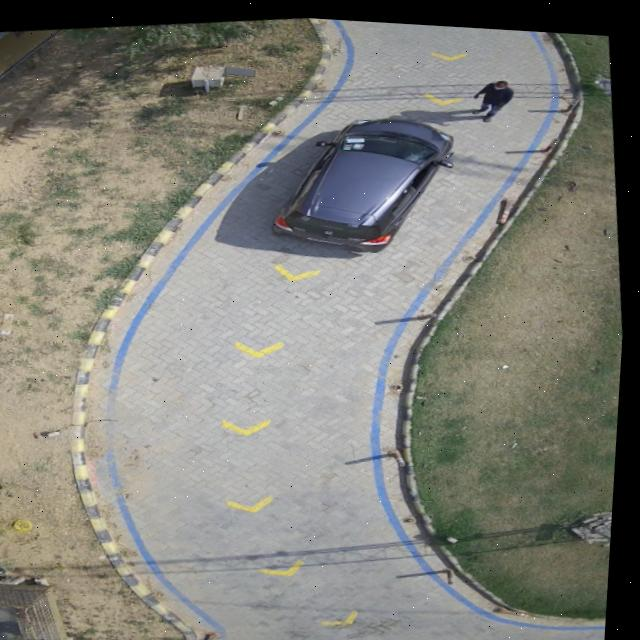car: (273, 112, 454, 248)
